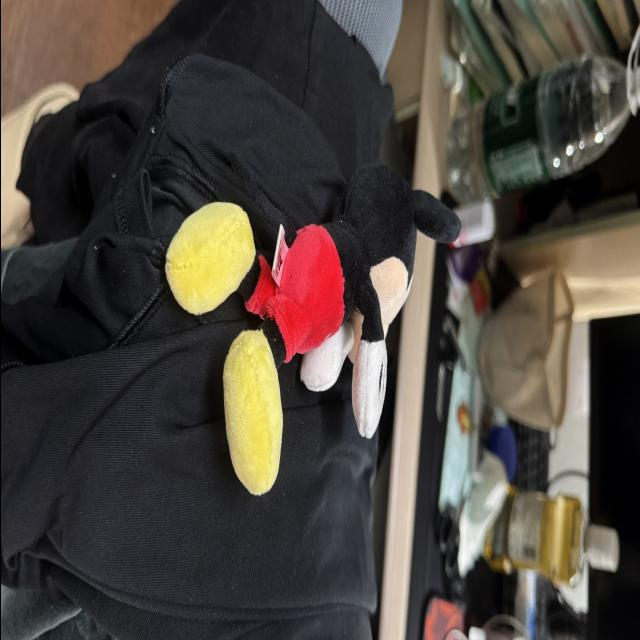mickey: (165, 167, 459, 494)
